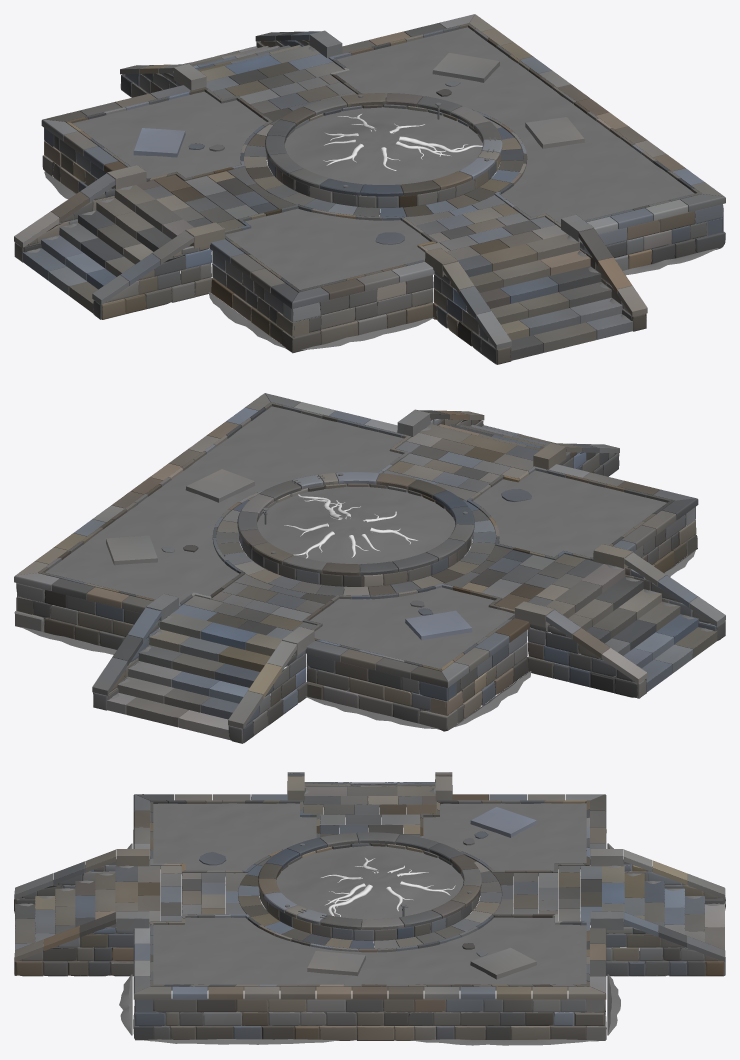
Rendered from WardHill_LOD0.glb.
The picture shows the model from 3 angles, top to bottom: view 1: azimuth 30°, elevation 25°; view 2: azimuth 150°, elevation 25°; view 3: azimuth 270°, elevation 25°; orthographic projection. The views are drawn at different scales.
Parts seen in each view (by area): view 1: WH_Walls_LOD0, WH_BedSoil_LOD0, WH_Paving_LOD0, WH_Stairs_LOD0, WH_RingSoil_LOD0, WH_Ring_LOD0, WH_Sand_LOD0, WH_Roots_LOD0; view 2: WH_Walls_LOD0, WH_BedSoil_LOD0, WH_Paving_LOD0, WH_Stairs_LOD0, WH_RingSoil_LOD0, WH_Ring_LOD0, WH_Sand_LOD0, WH_Roots_LOD0; view 3: WH_Walls_LOD0, WH_BedSoil_LOD0, WH_Paving_LOD0, WH_Stairs_LOD0, WH_RingSoil_LOD0, WH_Ring_LOD0, WH_Sand_LOD0, WH_Roots_LOD0.
Boxes of the visible parts, x1,y1,x2,y2 form: WH_Walls_LOD0: [14, 14, 725, 364]; WH_BedSoil_LOD0: [72, 27, 694, 289]; WH_Paving_LOD0: [65, 23, 702, 292]; WH_Stairs_LOD0: [22, 45, 632, 360]; WH_RingSoil_LOD0: [284, 107, 482, 185]; WH_Ring_LOD0: [265, 93, 502, 208]; WH_Sand_LOD0: [27, 46, 718, 349]; WH_Roots_LOD0: [323, 114, 482, 170]; WH_Walls_LOD0: [14, 393, 725, 743]; WH_BedSoil_LOD0: [45, 406, 666, 668]; WH_Paving_LOD0: [38, 402, 674, 671]; WH_Stairs_LOD0: [107, 424, 717, 739]; WH_RingSoil_LOD0: [257, 486, 455, 568]; WH_Ring_LOD0: [237, 472, 474, 586]; WH_Sand_LOD0: [21, 425, 712, 728]; WH_Roots_LOD0: [284, 494, 417, 558]; WH_Walls_LOD0: [14, 772, 725, 1041]; WH_BedSoil_LOD0: [149, 802, 589, 986]; WH_Paving_LOD0: [138, 795, 603, 990]; WH_Stairs_LOD0: [15, 782, 724, 952]; WH_RingSoil_LOD0: [276, 845, 463, 920]; WH_Ring_LOD0: [258, 832, 481, 940]; WH_Sand_LOD0: [18, 788, 720, 1045]; WH_Roots_LOD0: [320, 858, 455, 916].
Size of the model in its own units: 18.16 by 2.33 by 21.31.
